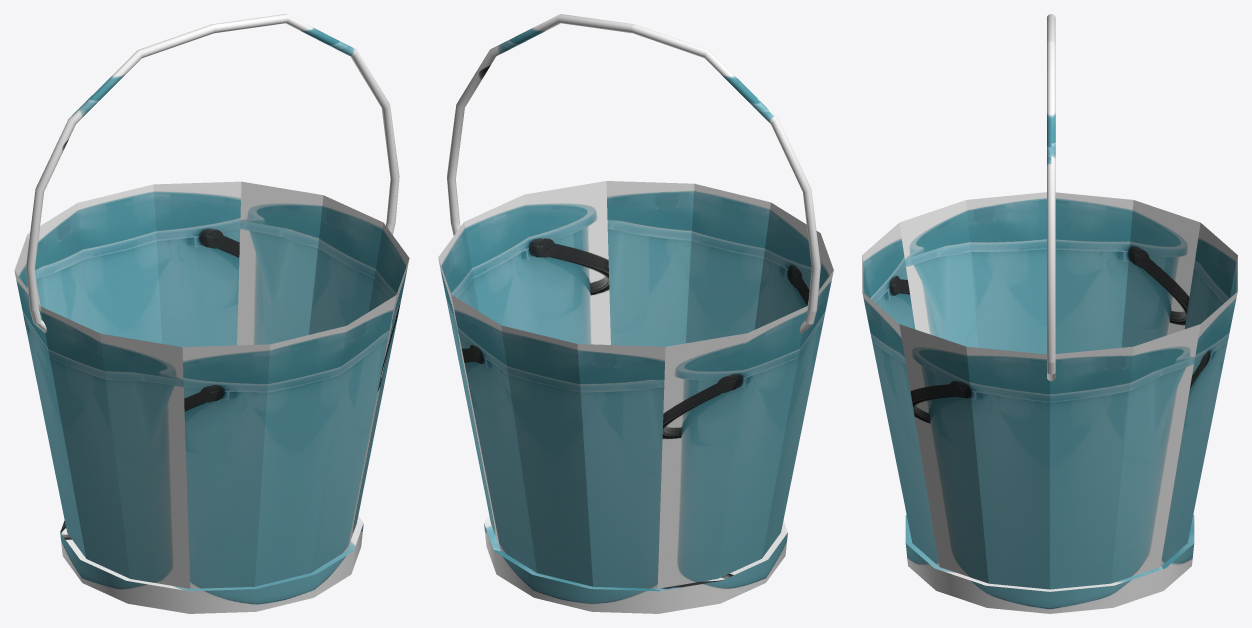
File: bucket.obj
3 renders of one model, left to right at view 1: azimuth 30°, elevation 25°; view 2: azimuth 150°, elevation 25°; view 3: azimuth 270°, elevation 25°, orthographic. The views are drawn at different scales.
Visible parts, largest first — view 1: Cylinder001, Cylinder002; view 2: Cylinder001, Cylinder002; view 3: Cylinder001, Cylinder002.
Boxes of the visible parts, x1,y1,x2,y2 form: Cylinder001: (14, 181, 409, 613); Cylinder002: (26, 14, 399, 332); Cylinder001: (438, 181, 833, 613); Cylinder002: (447, 14, 820, 333); Cylinder001: (862, 192, 1237, 613); Cylinder002: (1047, 14, 1055, 381).
Bounding box in the file's own units: 87.64 × 118 × 78.77.
